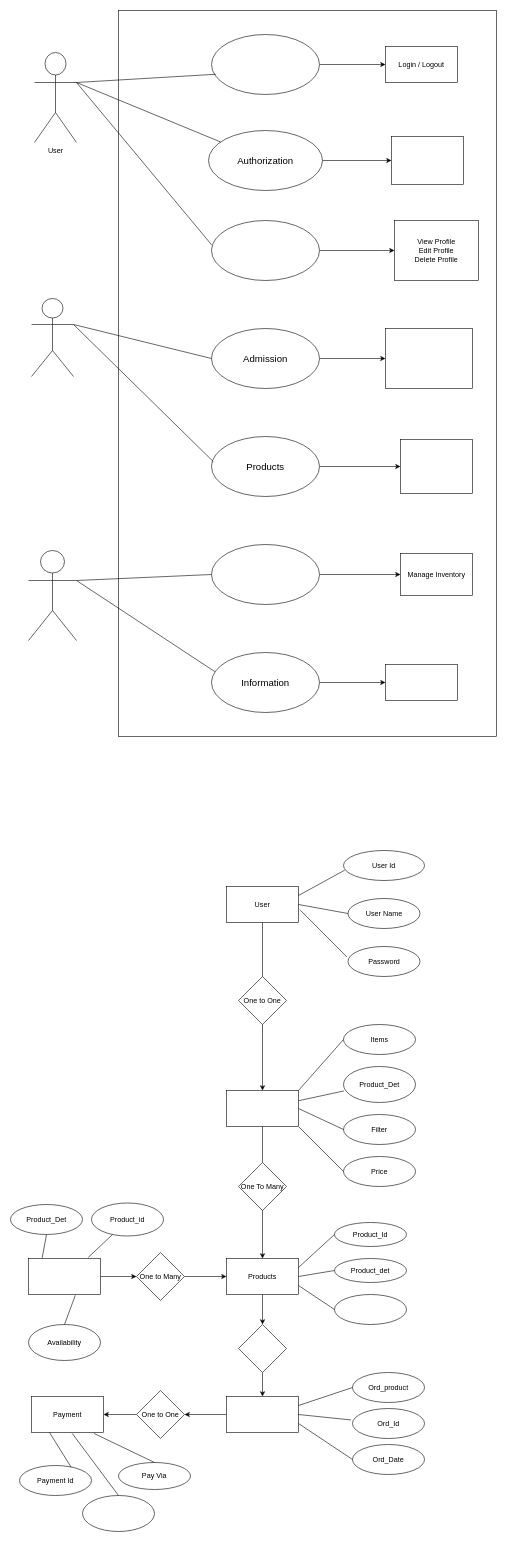
Some shapes in this 507 by 1542 pixel diagram are drawn without their labels. The centre of each missing label's shape, as x and y in pixels:
Add product Update Product View Product: point 436,466
Admin: point 52,595
Cart: point 64,1276
Inventory: point 265,574
Manage Roles Grant Permissions Revoke Permissions: point 427,160
Manager: point 52,337
Many to Many: point 262,1348
Orders: point 262,1414
Payment Details: point 118,1513
Product_Rating: point 370,1309
Profile: point 265,250
Review Application Approve/Reject Application Submit Application: point 428,358
Update Info View Info: point 421,682
Users: point 265,64
Wish List: point 262,1108
